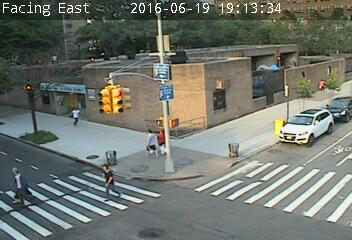neg: (236, 89, 253, 112), (226, 139, 243, 161), (138, 34, 154, 56), (216, 73, 230, 93), (100, 46, 112, 62)
pos: (1, 162, 32, 204), (91, 162, 122, 203), (136, 124, 160, 157), (151, 126, 173, 154), (65, 103, 85, 130)
